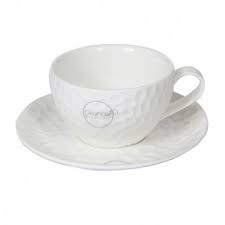cup: (39, 40, 211, 151)
